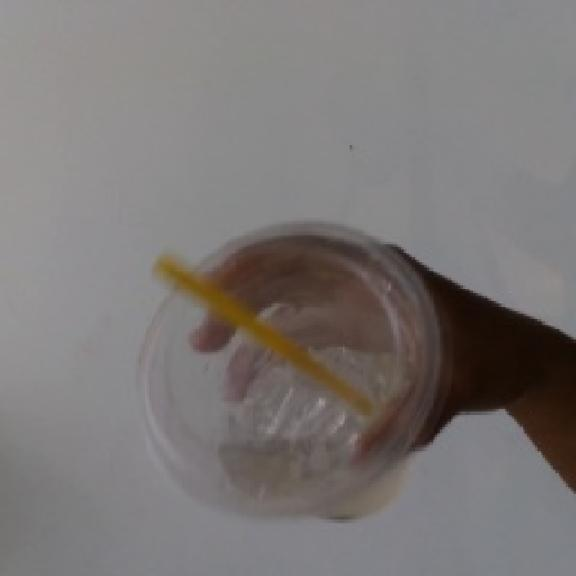Plastik: (142, 227, 442, 519)
